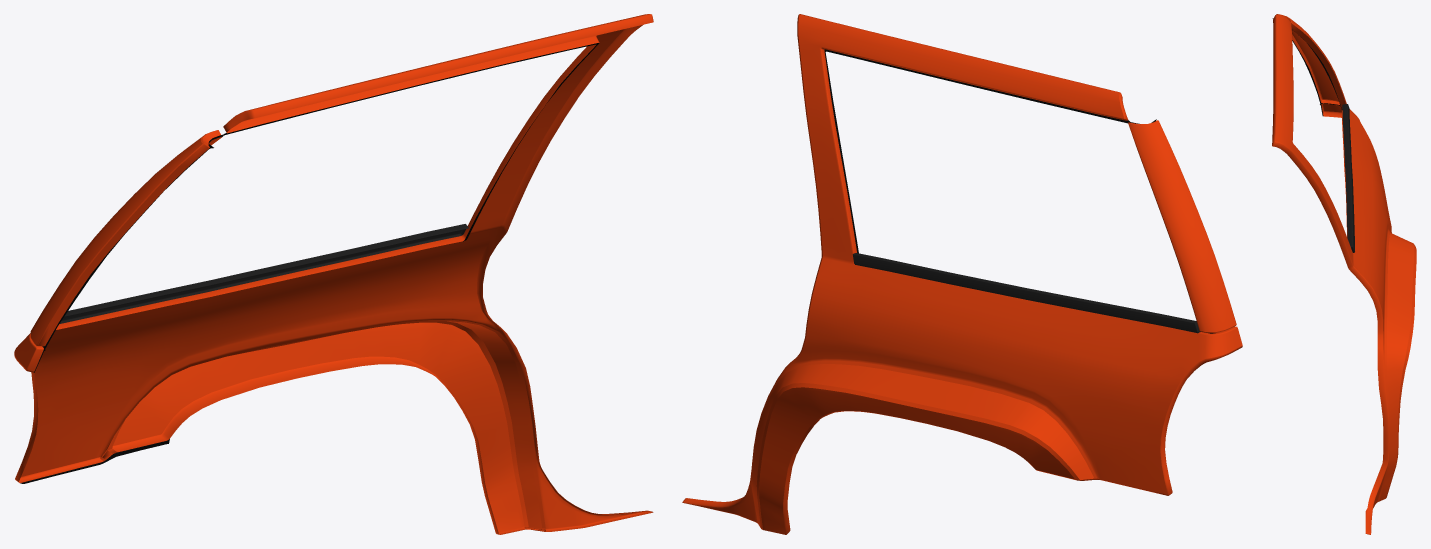
3 views of the same model, side by side, from view 1: azimuth 30°, elevation 25°; view 2: azimuth 150°, elevation 25°; view 3: azimuth 270°, elevation 25° (orthographic). The views are drawn at different scales.
Parts seen in each view (by area): view 1: U843_9A_381B_L_U843_9A_381B_L_1_DaS, U843_9A_381B_L_U843_9A_381B_L_1_DaS_E, U843_9A_381B_L_U843_9A_381B_L_2_DaS, U843_9A_381B_L_3_D_U843_9A_381B_L, U843_9A_381B_L_U843_9A_381B_L_4_D; view 2: U843_9A_381B_L_U843_9A_381B_L_1_DaS, U843_9A_381B_L_U843_9A_381B_L_1_DaS_E, U843_9A_381B_L_U843_9A_381B_L_2_DaS, U843_9A_381B_L_3_D_U843_9A_381B_L, U843_9A_381B_L_U843_9A_381B_L_4_D; view 3: U843_9A_381B_L_U843_9A_381B_L_1_DaS, U843_9A_381B_L_U843_9A_381B_L_1_DaS_E, U843_9A_381B_L_U843_9A_381B_L_2_DaS, U843_9A_381B_L_3_D_U843_9A_381B_L, U843_9A_381B_L_U843_9A_381B_L_4_D, U843_9A_381B_L_U843_9A_381B_L_2_DaS_E.
Part boxes in pixels (x1,y1,x2,y2): U843_9A_381B_L_U843_9A_381B_L_1_DaS: (14,14,648,533); U843_9A_381B_L_U843_9A_381B_L_1_DaS_E: (14,14,653,534); U843_9A_381B_L_U843_9A_381B_L_2_DaS: (30,130,221,346); U843_9A_381B_L_3_D_U843_9A_381B_L: (59,224,468,323); U843_9A_381B_L_U843_9A_381B_L_4_D: (20,43,599,483); U843_9A_381B_L_U843_9A_381B_L_1_DaS: (683,14,1242,534); U843_9A_381B_L_U843_9A_381B_L_1_DaS_E: (682,14,1242,534); U843_9A_381B_L_U843_9A_381B_L_2_DaS: (1129,121,1236,331); U843_9A_381B_L_3_D_U843_9A_381B_L: (852,253,1200,333); U843_9A_381B_L_U843_9A_381B_L_4_D: (824,49,1215,333); U843_9A_381B_L_U843_9A_381B_L_1_DaS: (1275,15,1414,508); U843_9A_381B_L_U843_9A_381B_L_1_DaS_E: (1272,15,1416,534); U843_9A_381B_L_U843_9A_381B_L_2_DaS: (1276,14,1346,108); U843_9A_381B_L_3_D_U843_9A_381B_L: (1342,104,1354,252); U843_9A_381B_L_U843_9A_381B_L_4_D: (1272,18,1342,116); U843_9A_381B_L_U843_9A_381B_L_2_DaS_E: (1277,14,1346,103).
Bounding box in the file's own units: 144 × 119 × 42.3.
